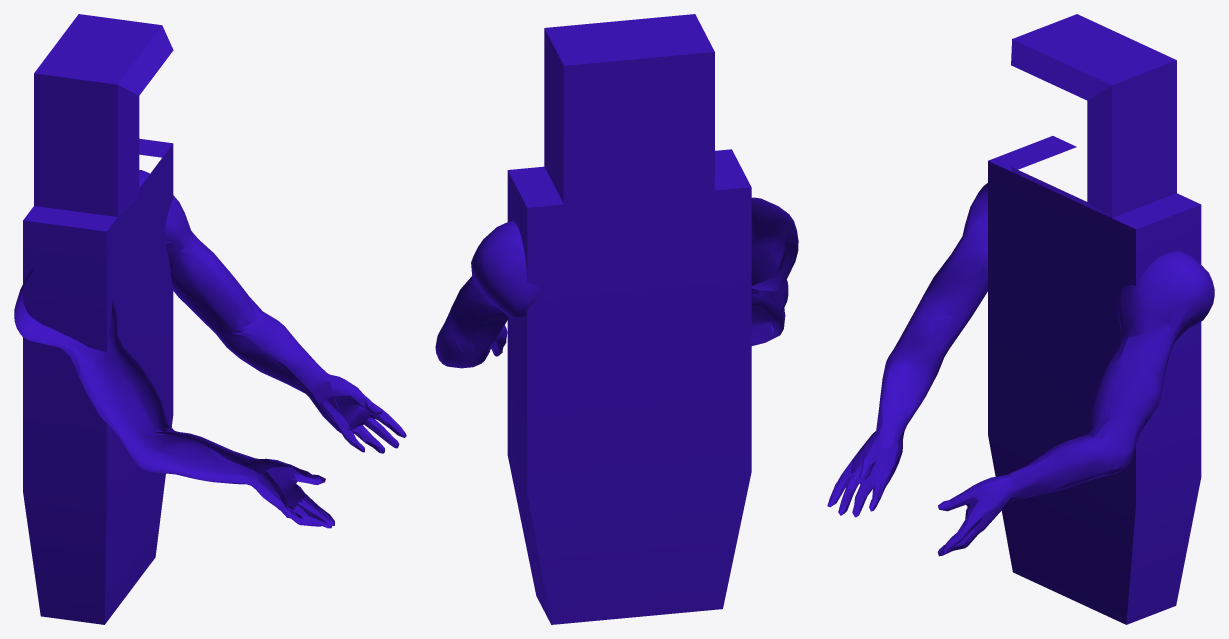
The model's file is avatarColor.glb.
3 renders of one model, left to right at view 1: azimuth 30°, elevation 25°; view 2: azimuth 150°, elevation 25°; view 3: azimuth 270°, elevation 25°, orthographic. The views are drawn at different scales.
Visible parts, largest first — view 1: avatar:Mesh; view 2: avatar:Mesh; view 3: avatar:Mesh.
Part boxes in pixels (box(x1,y1,x2,y2)): avatar:Mesh: box(14, 14, 406, 624); avatar:Mesh: box(435, 14, 798, 624); avatar:Mesh: box(827, 14, 1214, 624).
Size of the model in its own units: 0.0401 by 0.0587 by 0.0382.
